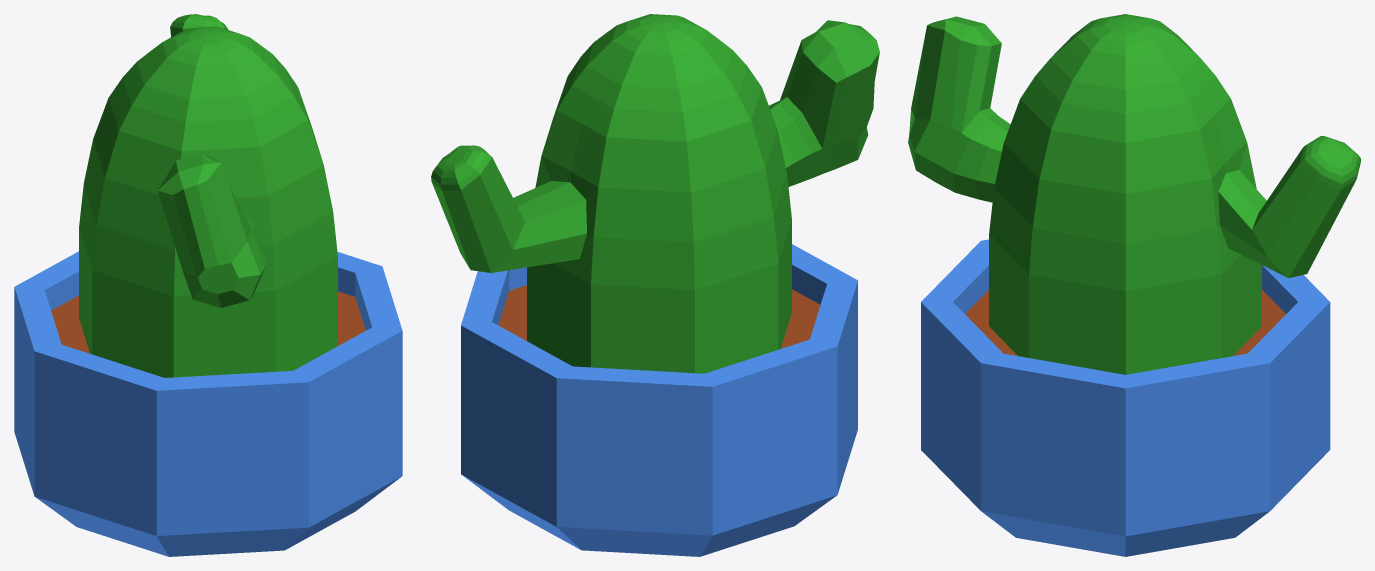
The model's file is cactus.fbx.
The picture shows the model from 3 angles, left to right: view 1: azimuth 30°, elevation 25°; view 2: azimuth 150°, elevation 25°; view 3: azimuth 270°, elevation 25°; orthographic projection. The views are drawn at different scales.
Parts seen in each view (by area): view 1: cactus; view 2: cactus; view 3: cactus.
Boxes of the visible parts, x1,y1,x2,y2 form: cactus: (14, 14, 402, 556); cactus: (431, 14, 879, 556); cactus: (908, 14, 1360, 556).
Size of the model in its own units: 154 by 194 by 170.
